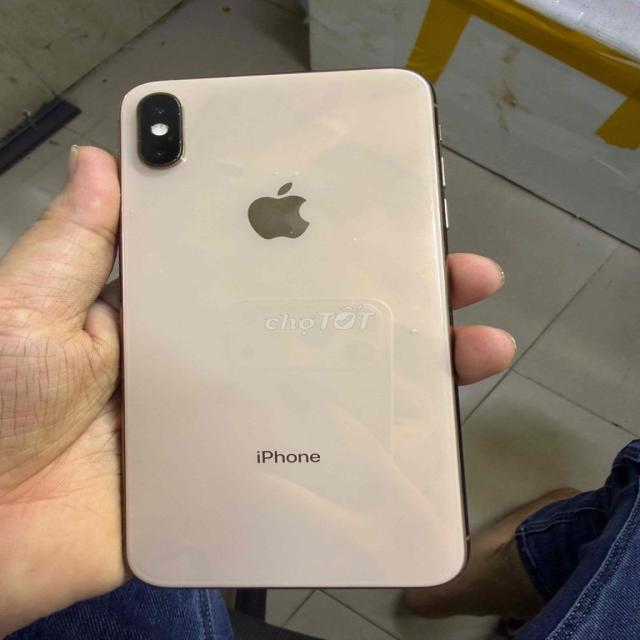gen_x_xs: (121, 69, 467, 588)
